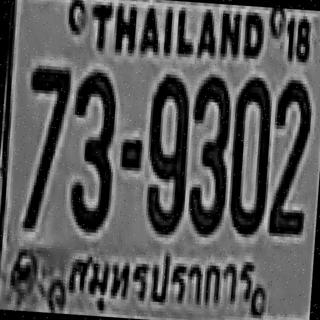N00: (227, 74, 274, 234)
N02: (266, 83, 312, 233), (268, 77, 314, 218)
N03: (65, 68, 118, 230), (184, 73, 233, 236)
N07: (20, 63, 70, 226), (24, 65, 70, 181)
N09: (142, 70, 192, 232)
P57: (63, 242, 264, 316)
